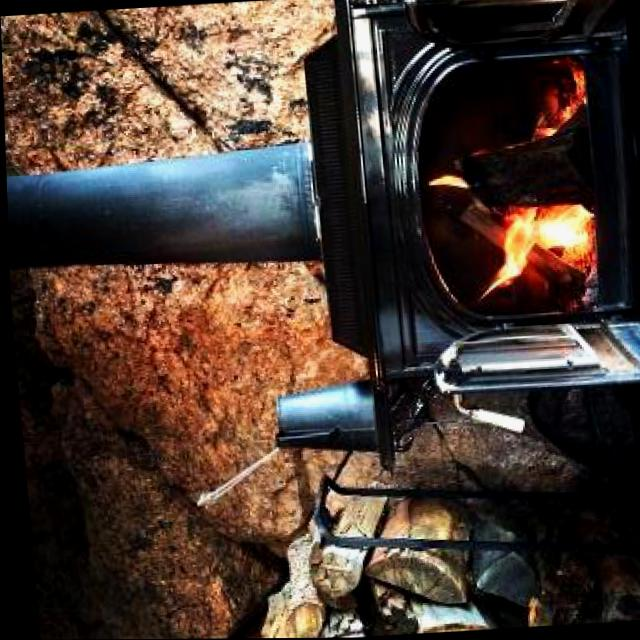Fire: (428, 199, 597, 308), (511, 64, 596, 149)
